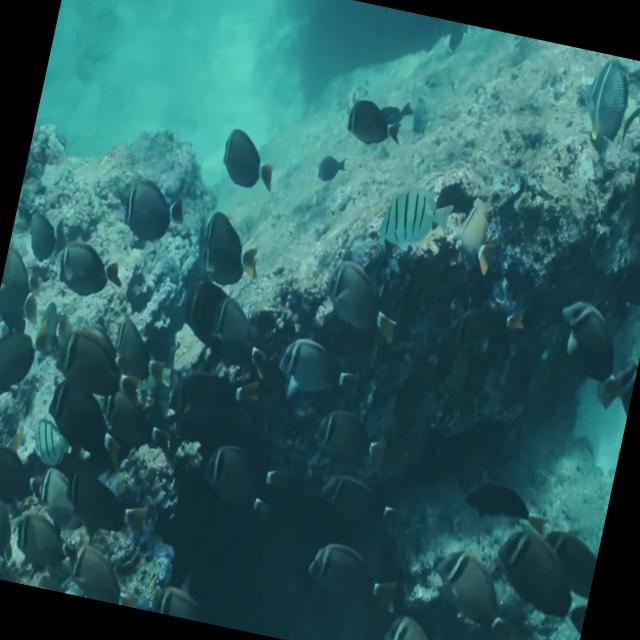fish: (482, 523, 600, 639), (48, 315, 149, 408), (301, 535, 408, 622), (546, 297, 632, 405), (426, 550, 518, 640), (56, 462, 156, 542), (270, 331, 365, 410), (318, 258, 406, 340), (200, 296, 279, 380), (374, 182, 454, 260), (191, 208, 268, 288), (578, 60, 640, 154), (212, 122, 286, 196), (5, 506, 76, 580), (58, 536, 134, 605), (120, 175, 190, 247), (53, 234, 128, 300), (344, 94, 404, 149), (27, 412, 78, 472)
